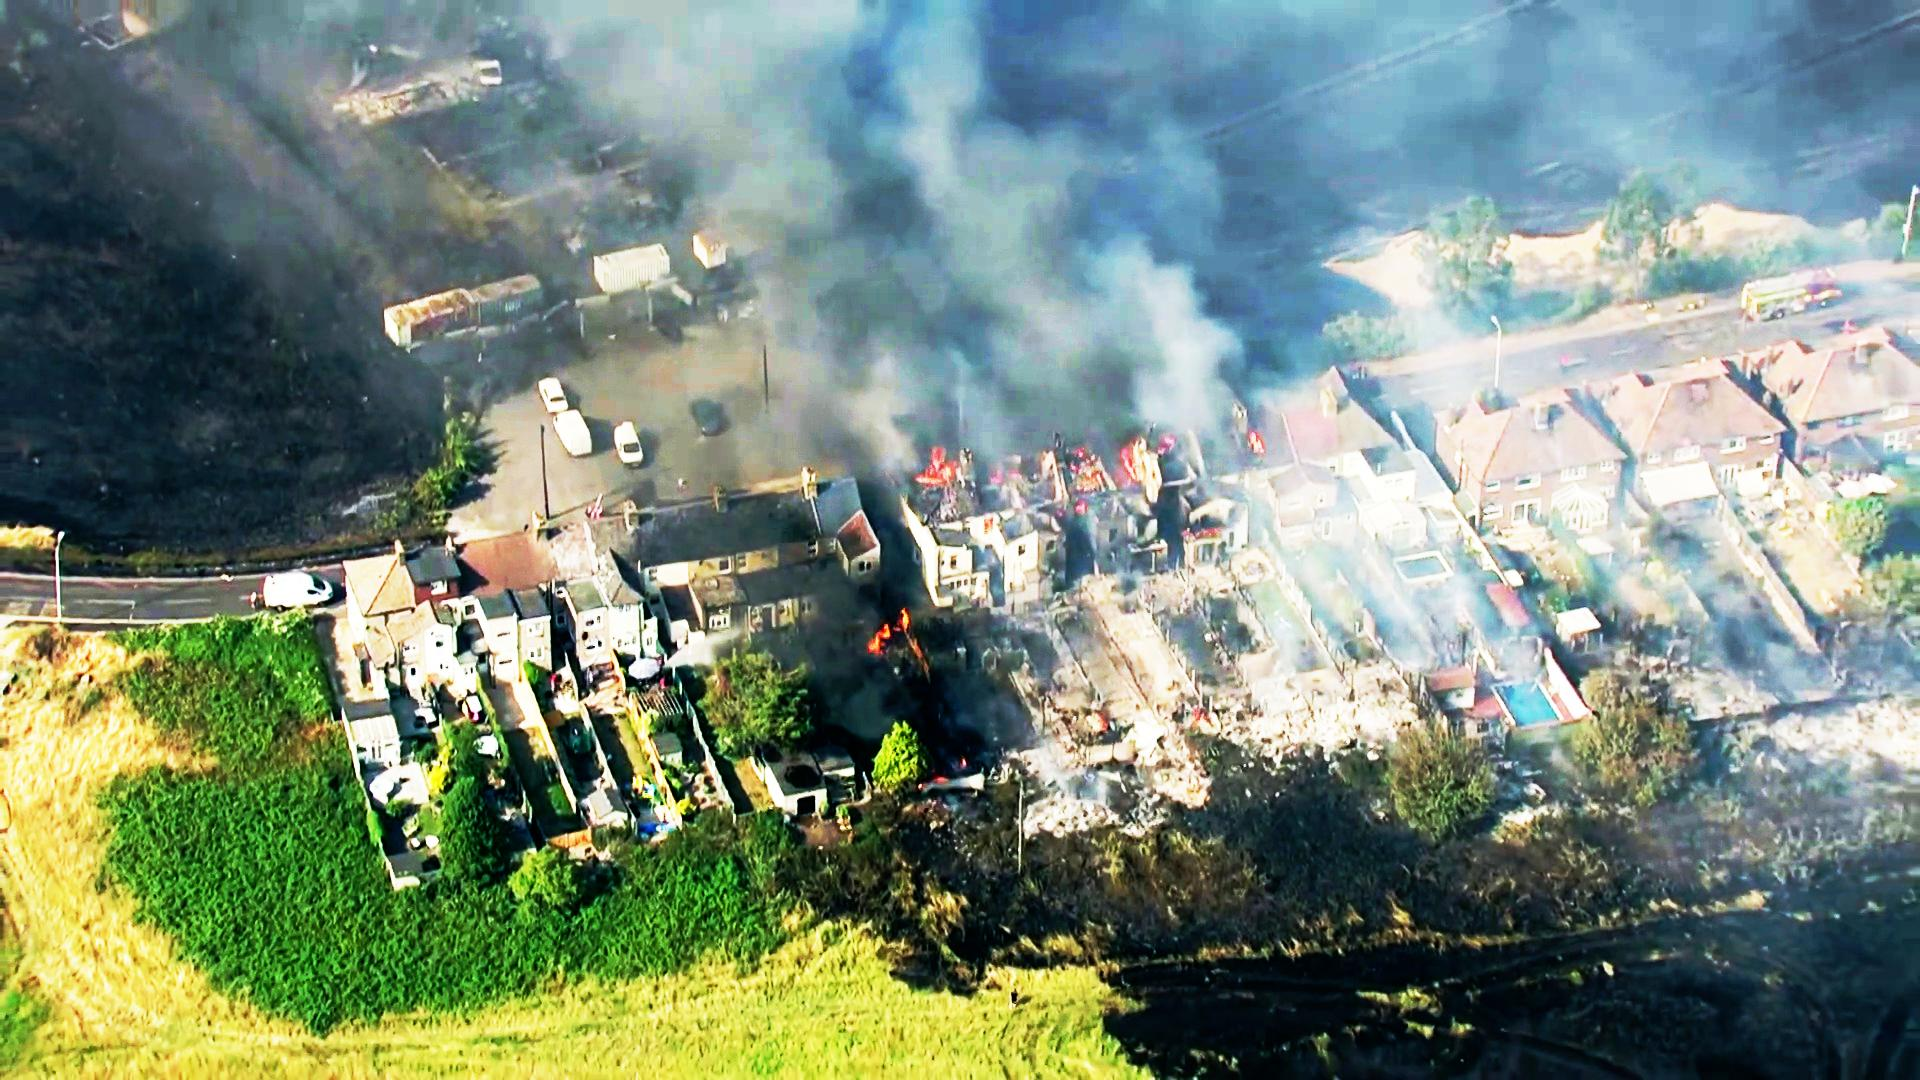smoke: (580, 0, 1065, 247), (823, 133, 1197, 429)
